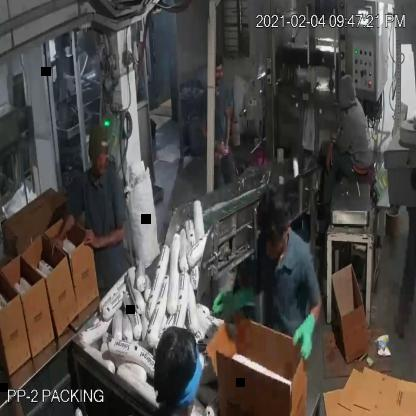glove: (209, 284, 261, 324), (290, 301, 318, 365)
no_glove: (81, 222, 128, 255), (47, 212, 76, 258), (322, 131, 339, 177), (223, 108, 234, 156)
